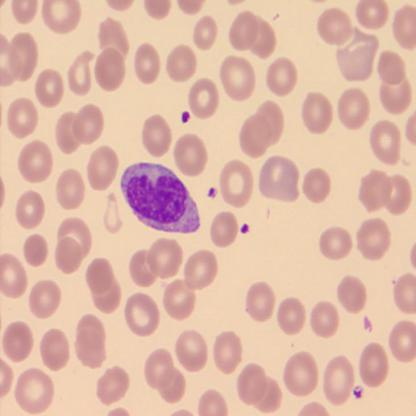Monocyte: (119, 161, 202, 235)
